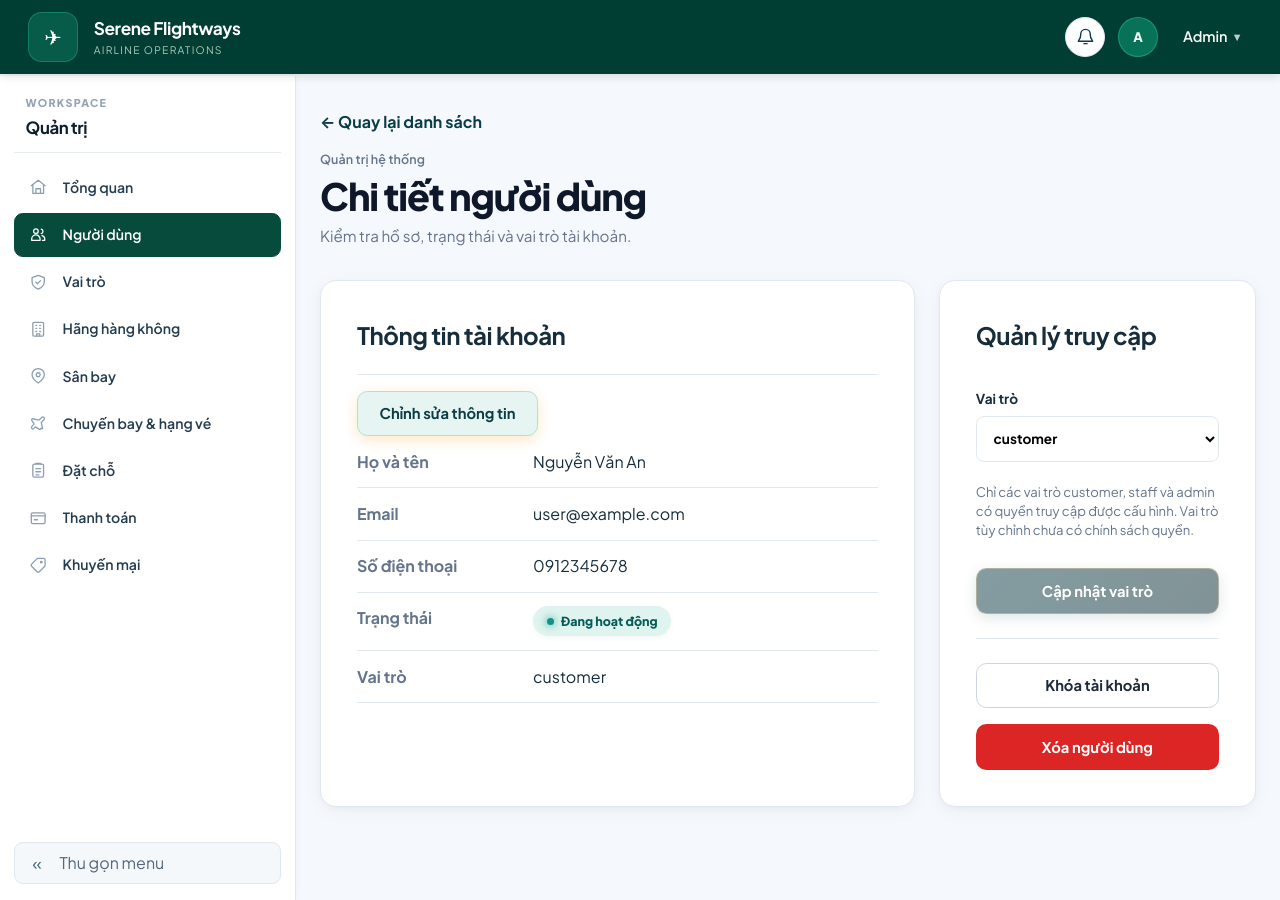
it: admin user detail › keeps edits after an API validation error and cancels without changing displayed details
Expected: the text "user@example.com" is shown, x1=533 y1=503 x2=685 y2=524
Click the button "Chỉnh sửa thông tin" at (448, 414), box x1=357 y1=391 x2=538 y2=436
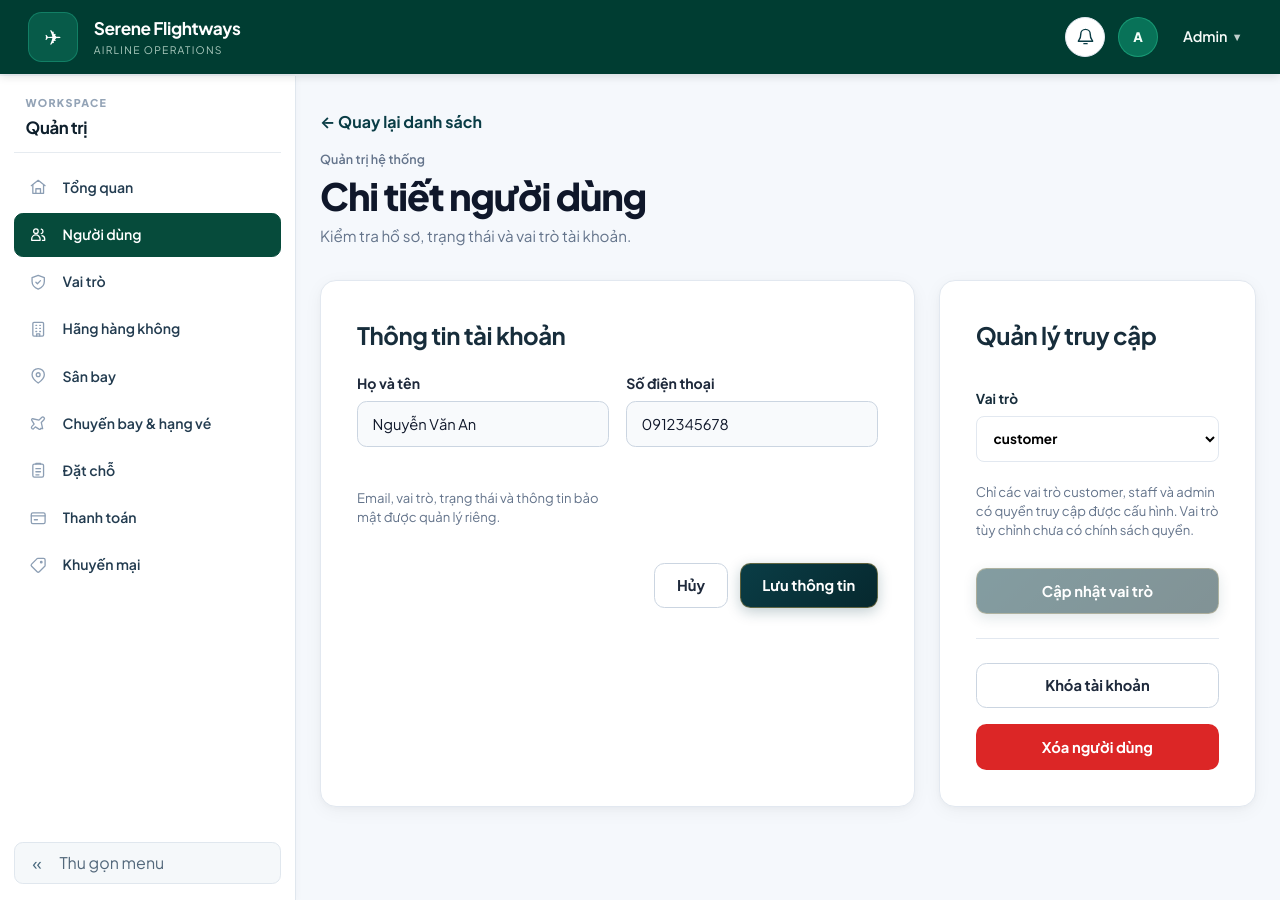
Clear the field labelled "Họ và tên" at (483, 424), box x1=357 y1=401 x2=609 y2=447
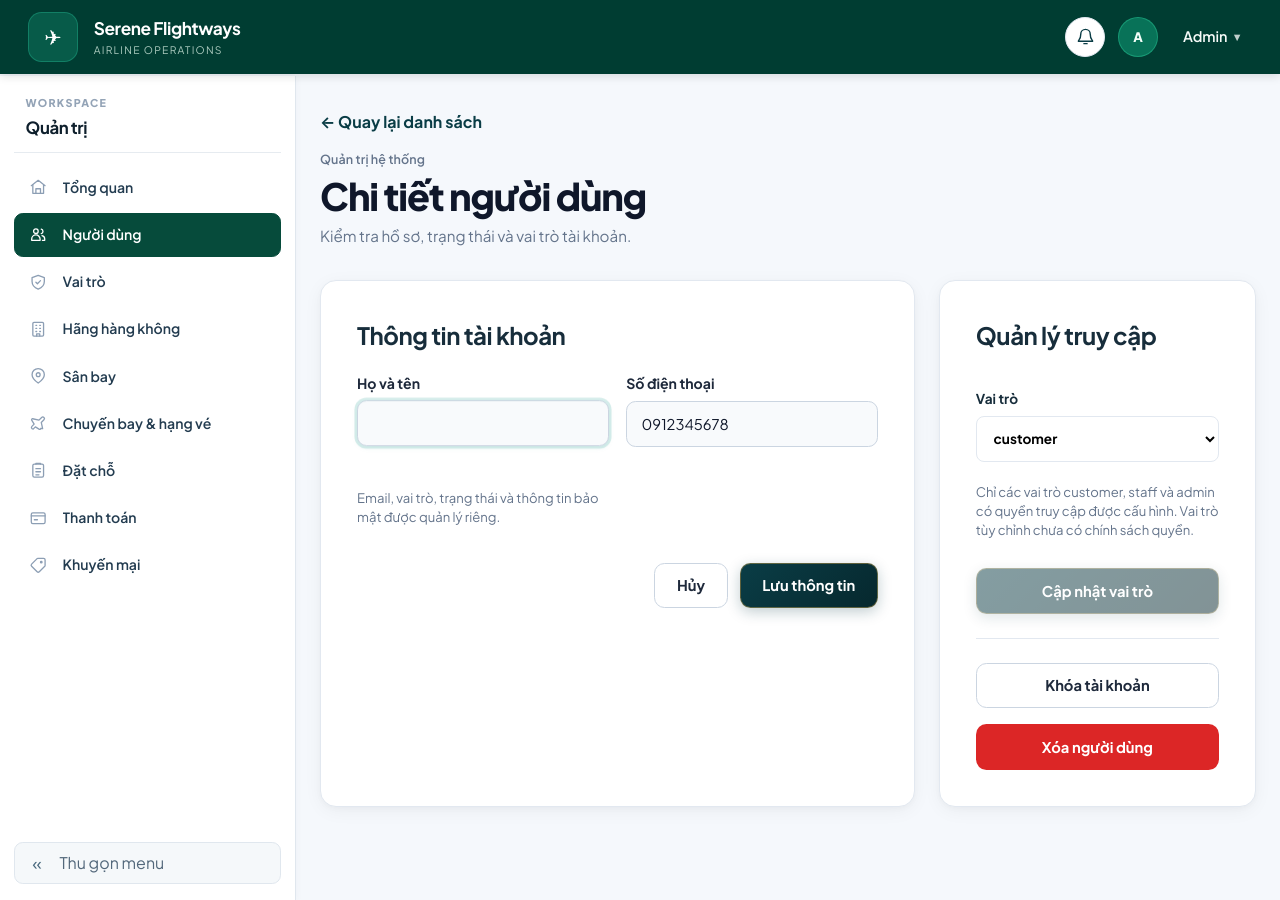
Type "Tên đang sửa" into the field labelled "Họ và tên" at (483, 423), box x1=357 y1=400 x2=609 y2=446
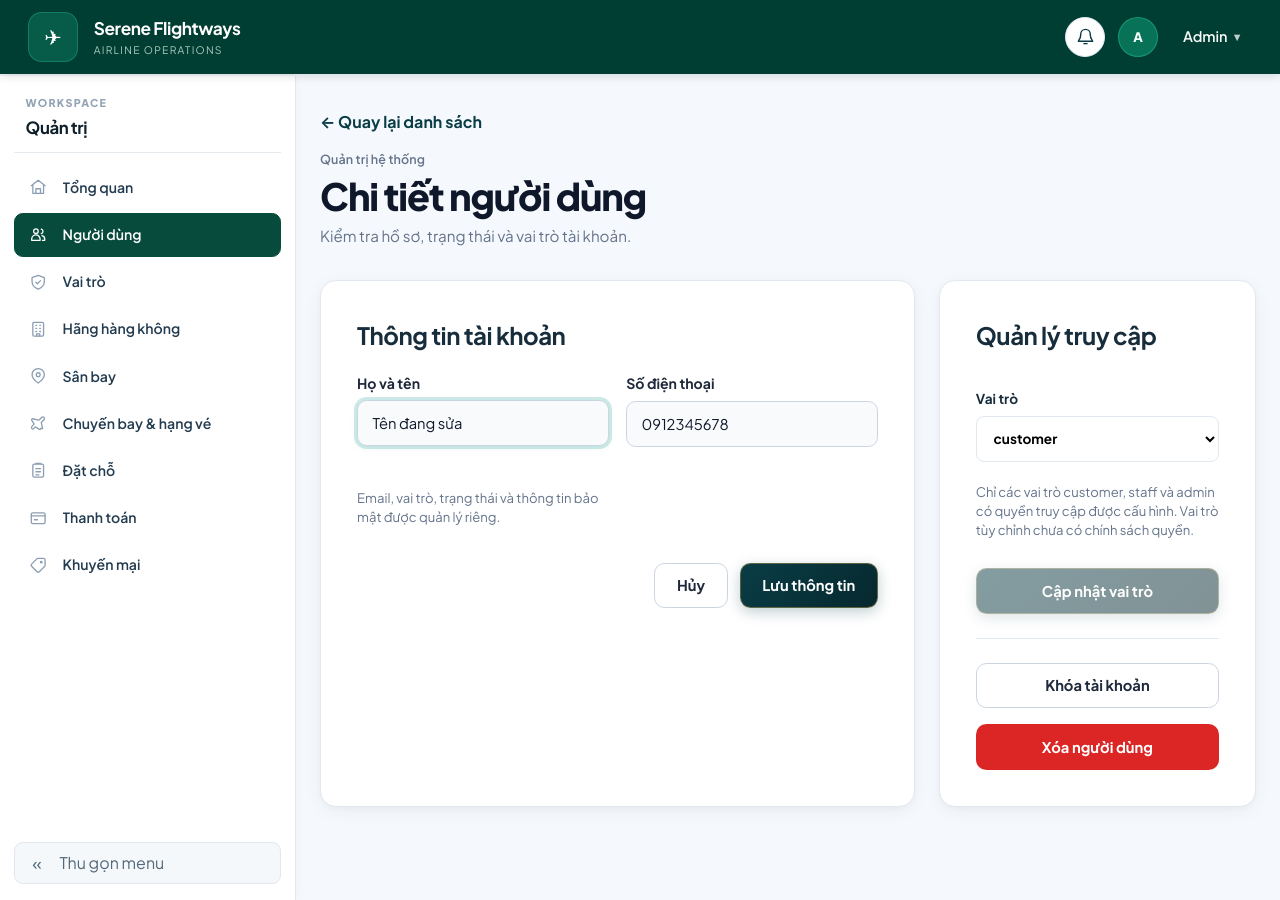
Click the button "Lưu thông tin" at (809, 585), box x1=740 y1=563 x2=878 y2=608
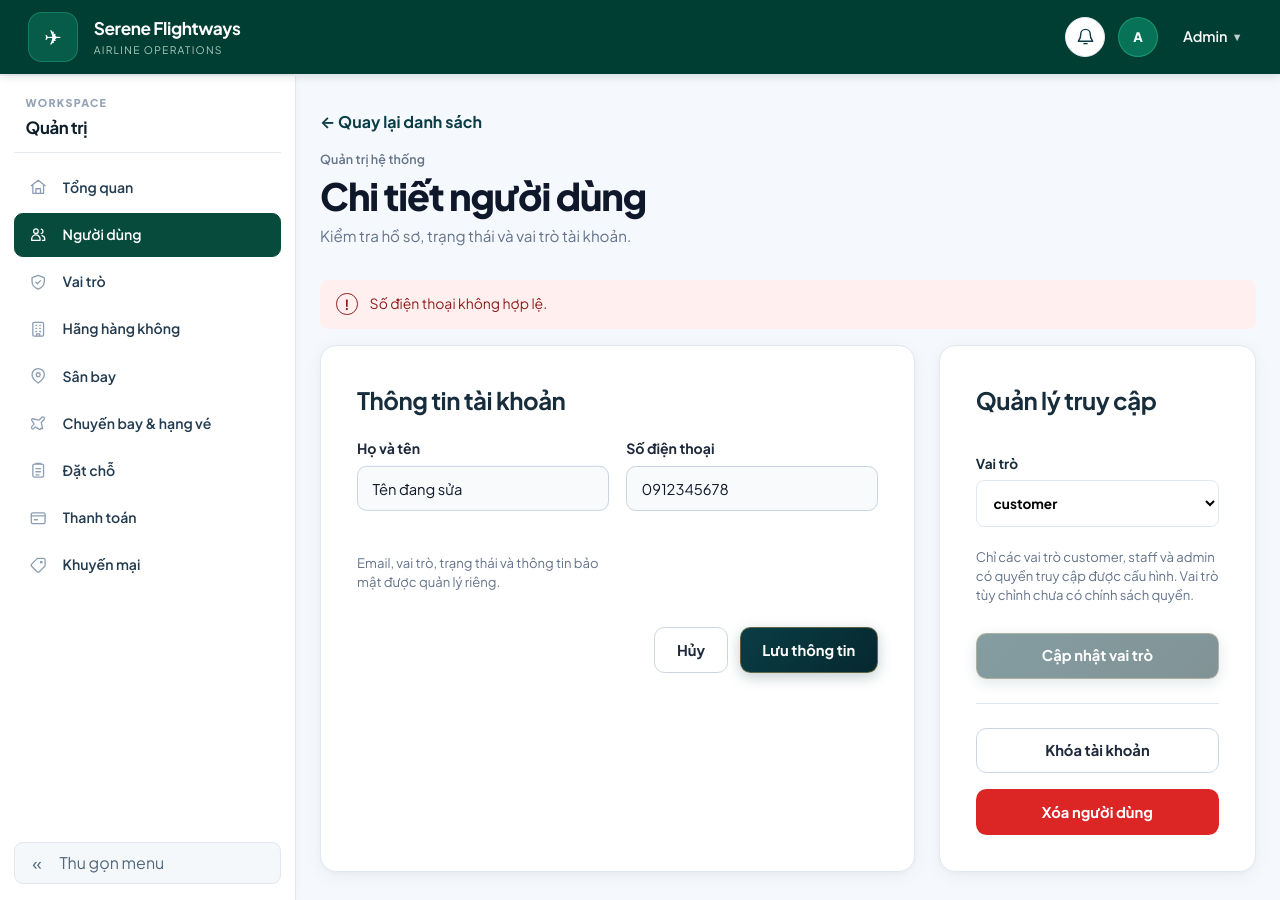
Expected: the text "Số điện thoại không hợp lệ." is shown, x1=370 y1=294 x2=547 y2=314
Click the button "Hủy" at (691, 650), box x1=654 y1=627 x2=728 y2=673
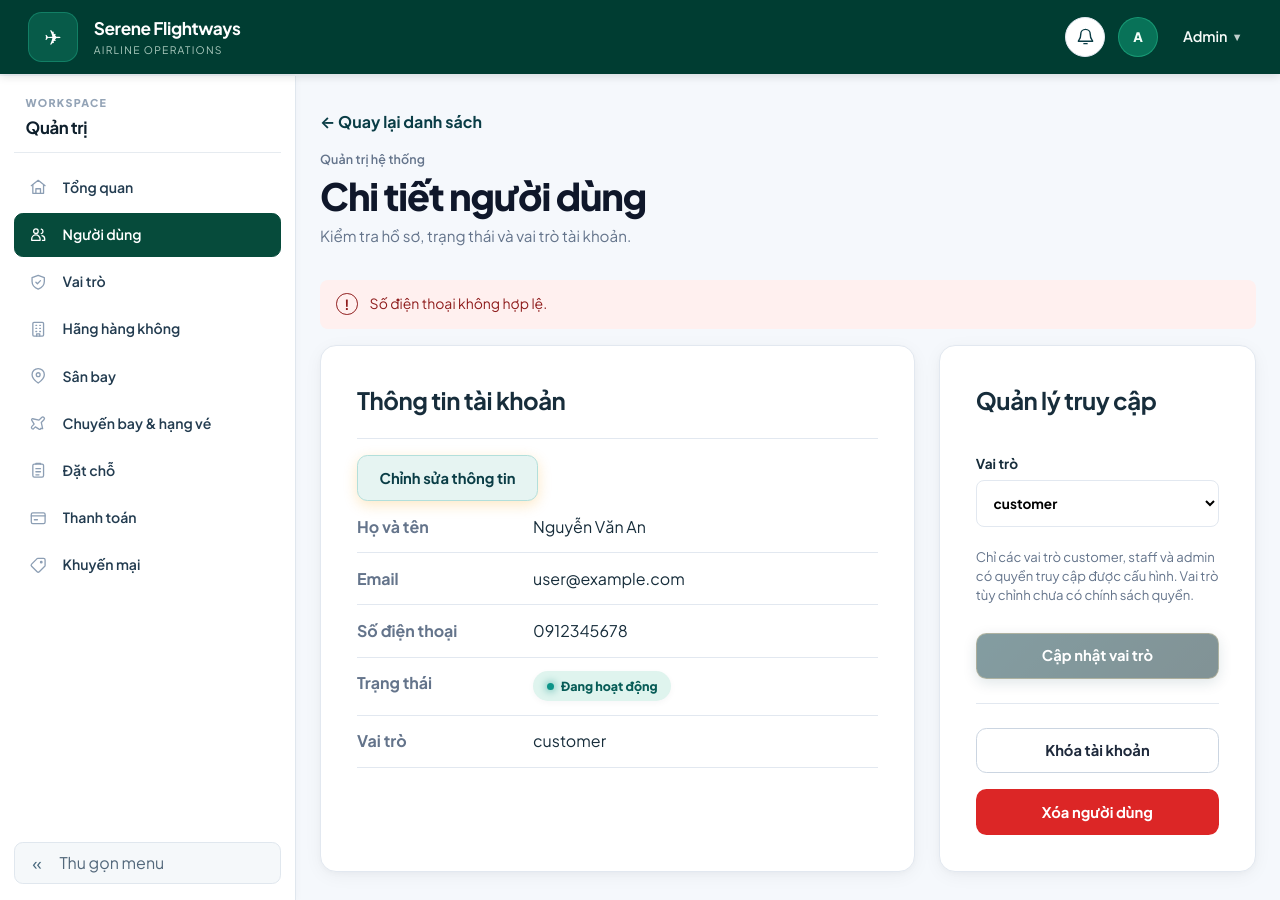
Expected: the text "Nguyễn Văn An" is shown, x1=533 y1=516 x2=646 y2=537
